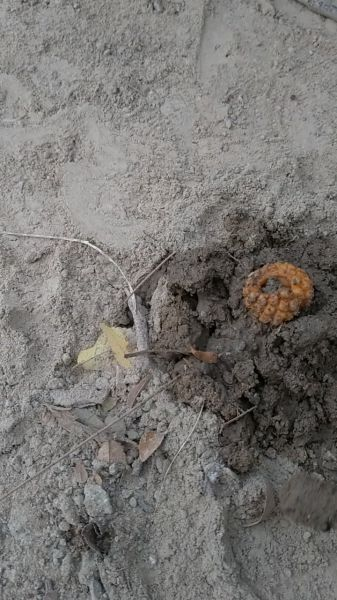eggs: (235, 254, 320, 331)
